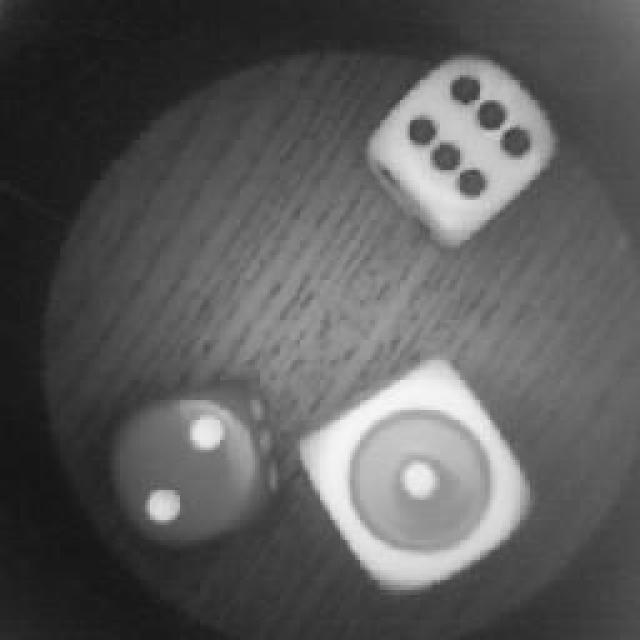dice_1: (310, 360, 525, 585)
dice_2: (102, 378, 278, 550)
dice_6: (373, 42, 555, 242)
